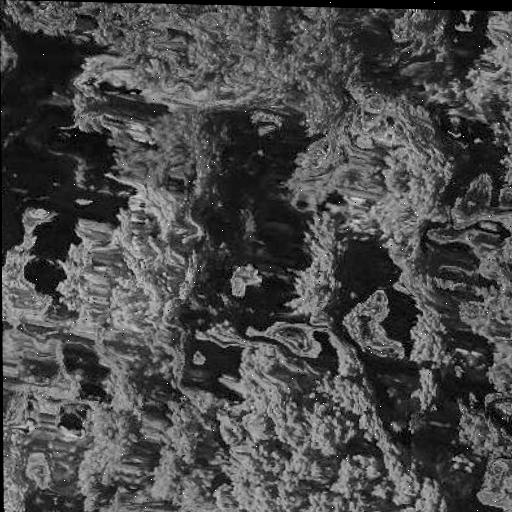tree-top: (211, 387, 446, 512), (100, 2, 369, 107), (277, 95, 454, 243), (53, 186, 207, 349), (74, 390, 208, 512), (103, 100, 238, 194), (450, 226, 512, 389), (2, 214, 66, 329), (273, 229, 346, 323), (457, 390, 512, 512)
